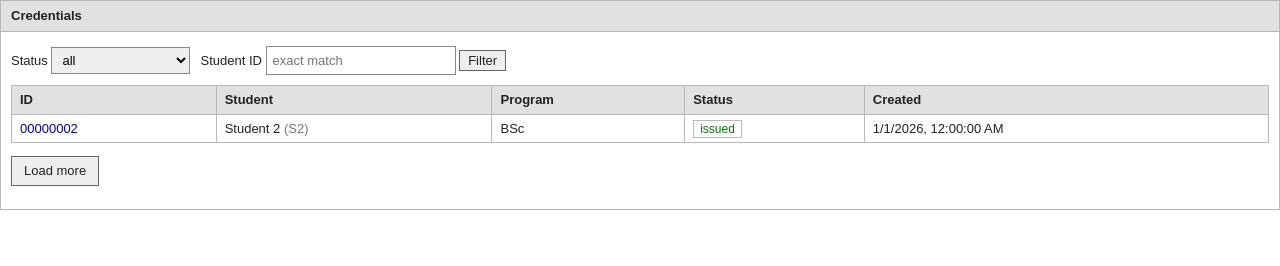
Scenario: lists that arrive a page at a time › shows an error from a later page without losing the pages already shown
Check: the text "Student 2" is shown, box [225,120,280,136]
Step 1. Click the button "Load more" → (55, 171), box [11,156,99,186]
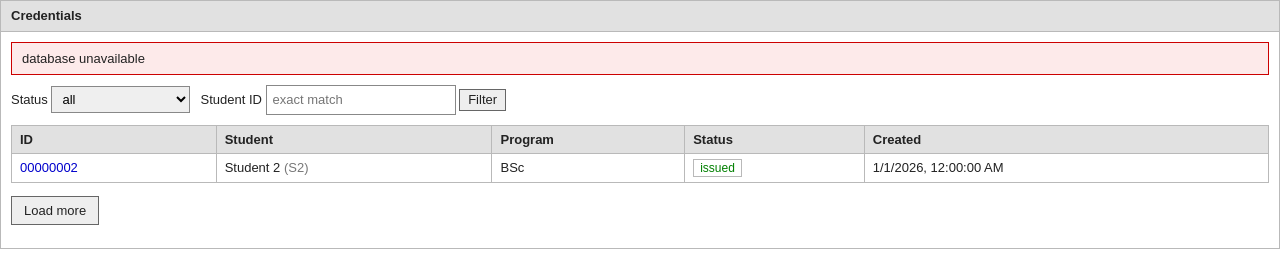
Check: the text "Student 2" is shown, box [225,160,280,175]
Check: the text "database unavailable" is shown, box [11,42,1269,75]
